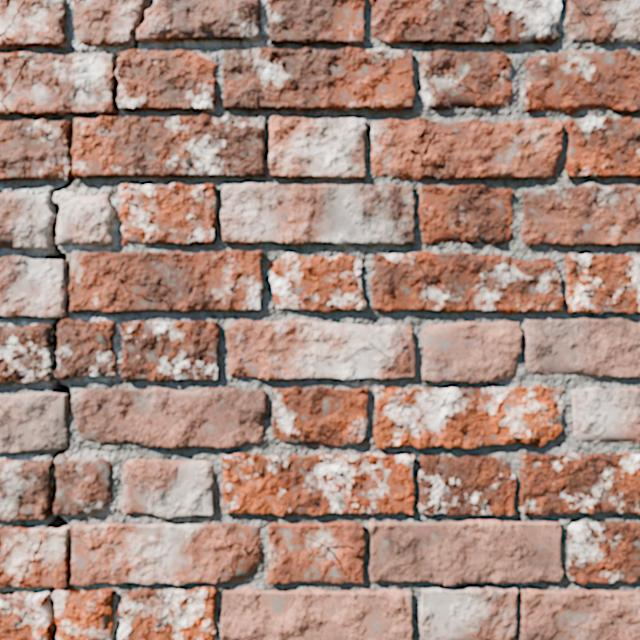broken_brick: (137, 0, 261, 42), (54, 319, 117, 378), (54, 455, 112, 514), (54, 191, 115, 246), (73, 0, 145, 46), (52, 586, 114, 639), (0, 459, 51, 521), (0, 323, 52, 382), (0, 193, 50, 249), (0, 591, 49, 639)
crack: (0, 0, 267, 639), (370, 116, 639, 180), (369, 518, 563, 586), (222, 47, 415, 112), (221, 452, 414, 515), (220, 183, 414, 245), (370, 251, 564, 313), (373, 385, 563, 448), (225, 319, 415, 379), (220, 587, 412, 639), (369, 0, 562, 46), (521, 49, 639, 114), (519, 452, 639, 515), (521, 182, 639, 246), (524, 318, 639, 377), (417, 453, 516, 516), (422, 321, 522, 383), (519, 588, 639, 639), (269, 116, 366, 179), (267, 521, 364, 584), (118, 182, 216, 244), (119, 321, 219, 381), (272, 386, 368, 446), (268, 253, 365, 311), (418, 185, 513, 244), (420, 50, 512, 110), (120, 459, 213, 518), (117, 586, 217, 639), (419, 586, 518, 639), (566, 521, 639, 584), (565, 253, 639, 313), (268, 0, 364, 45), (571, 386, 639, 443), (0, 0, 66, 49), (565, 0, 639, 43)
